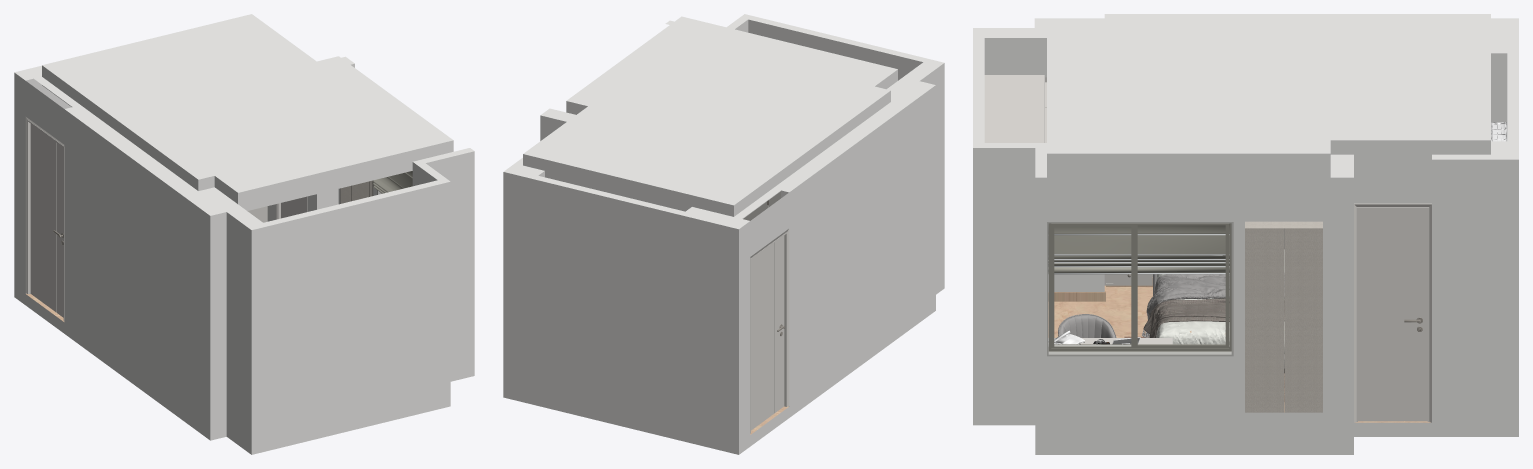
The model's file is bed2.glb.
3 views of the same model, side by side, from view 1: azimuth 30°, elevation 25°; view 2: azimuth 150°, elevation 25°; view 3: azimuth 270°, elevation 25° (orthographic). The views are drawn at different scales.
Visible parts, largest first — view 1: Group1, Component_5_2, Group250, Group51; view 2: Group1, Component_5_2; view 3: Group1, Component_5_2, Group51, Group250, Group31, Marais_bed_41, Group29, Rectangle0_3_1, Marais_bed_35, Marais_bed_26, Magazine_193_001_1.
Boxes of the visible parts, left/top/right/bottom form: Group1: left=14, top=14, right=474, bottom=454; Component_5_2: left=25, top=117, right=307, bottom=320; Group250: left=372, top=171, right=412, bottom=193; Group51: left=340, top=181, right=373, bottom=203; Group1: left=503, top=14, right=944, bottom=454; Component_5_2: left=743, top=191, right=789, bottom=433; Group1: left=973, top=14, right=1518, bottom=454; Component_5_2: left=984, top=75, right=1431, bottom=422; Group51: left=1245, top=221, right=1322, bottom=412; Group250: left=1048, top=223, right=1229, bottom=273; Group31: left=1048, top=223, right=1231, bottom=351; Marais_bed_41: left=1146, top=249, right=1284, bottom=353; Group29: left=1047, top=222, right=1233, bottom=356; Rectangle0_3_1: left=1054, top=234, right=1229, bottom=274; Marais_bed_35: left=1143, top=298, right=1284, bottom=337; Marais_bed_26: left=1058, top=274, right=1284, bottom=368; Magazine_193_001_1: left=1048, top=122, right=1507, bottom=344.
Size of the model in its own units: 3.85 by 3.15 by 5.35.
Materials: 123 (91 with a texture image).
